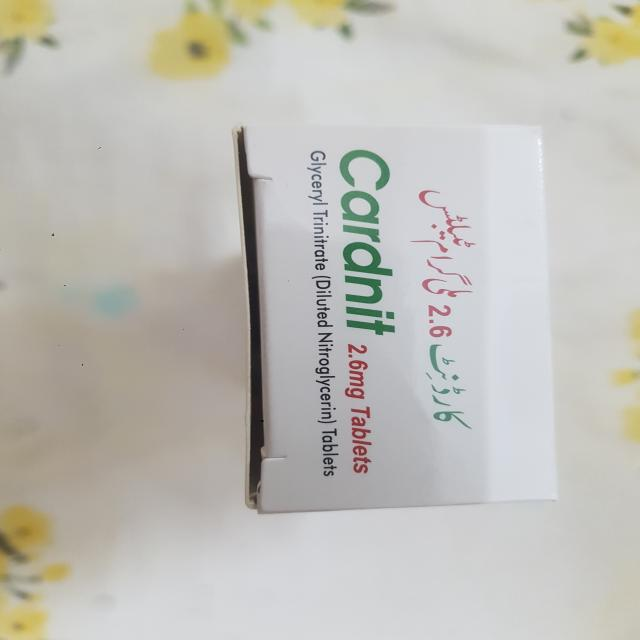electronic: (235, 122, 558, 514)
